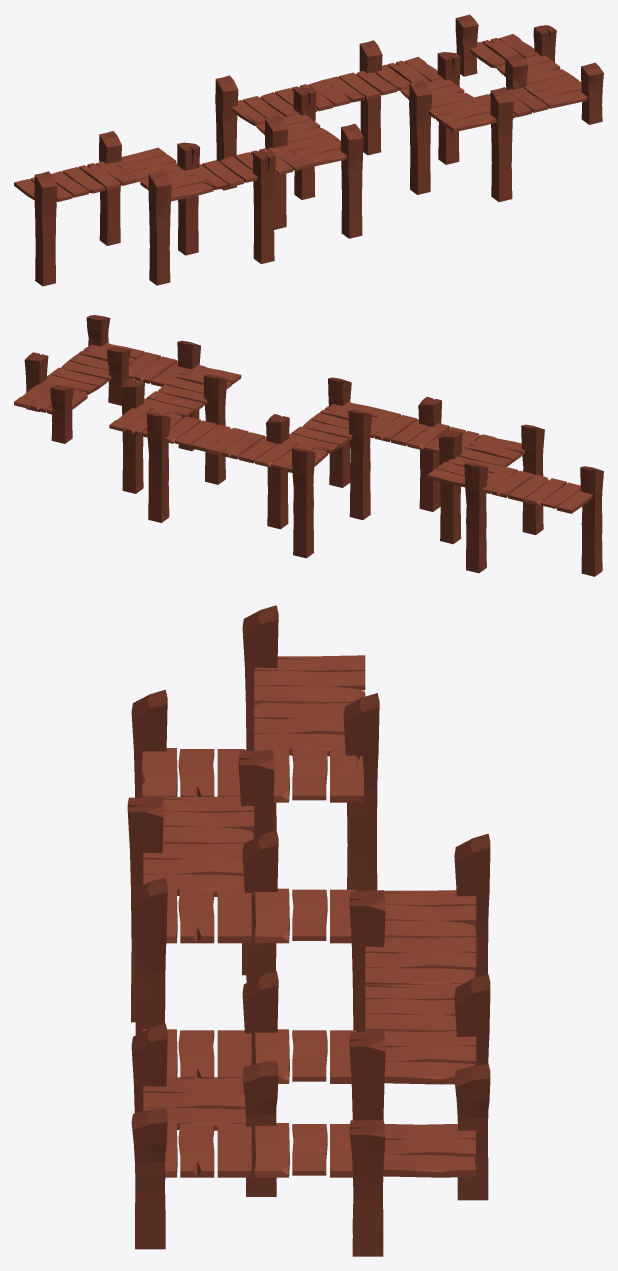
The model's file is m_bg_docksDark_02.fbx.
The picture shows the model from 3 angles, top to bottom: view 1: azimuth 30°, elevation 25°; view 2: azimuth 150°, elevation 25°; view 3: azimuth 270°, elevation 25°; orthographic projection. The views are drawn at different scales.
Visible parts, largest first — view 1: m_bg_docksDark_02; view 2: m_bg_docksDark_02; view 3: m_bg_docksDark_02.
Boxes of the visible parts, <box> form: m_bg_docksDark_02: <box>14,14,603,286</box>; m_bg_docksDark_02: <box>14,315,603,576</box>; m_bg_docksDark_02: <box>127,605,490,1256</box>.
Size of the model in its own units: 5631 by 1107 by 1636.
